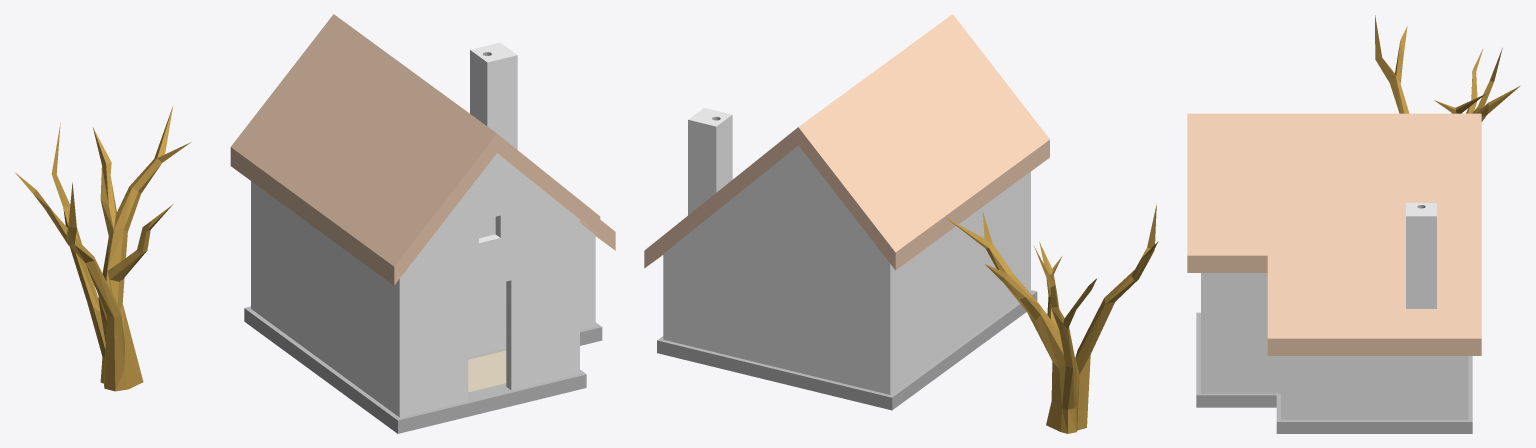
File: bim-house.glb
3 views of the same model, side by side, from view 1: azimuth 30°, elevation 25°; view 2: azimuth 150°, elevation 25°; view 3: azimuth 270°, elevation 25° (orthographic). The views are drawn at different scales.
Visible parts, largest first — view 1: Building-Architecture|IfcSlab, Building-Structural|IfcWall, Building-Architecture|IfcWall, Building-Landscaping|IfcGeographicElement, Building-Structural|IfcFooting, Building-Structural|IfcChimney, Building-Architecture|IfcBuildingElementProxy; view 2: Building-Architecture|IfcSlab, Building-Structural|IfcWall, Building-Architecture|IfcWall, Building-Landscaping|IfcGeographicElement, Building-Structural|IfcFooting, Building-Structural|IfcChimney; view 3: Building-Architecture|IfcSlab, Building-Architecture|IfcWall, Building-Structural|IfcFooting, Building-Structural|IfcChimney, Building-Landscaping|IfcGeographicElement.
Part boxes in pixels (left/top/right/bottom): Building-Architecture|IfcSlab: left=230, top=14, right=615, bottom=285; Building-Structural|IfcWall: left=408, top=153, right=586, bottom=415; Building-Architecture|IfcWall: left=251, top=181, right=595, bottom=417; Building-Landscaping|IfcGeographicElement: left=15, top=105, right=190, bottom=391; Building-Structural|IfcFooting: left=244, top=306, right=602, bottom=433; Building-Structural|IfcChimney: left=470, top=42, right=517, bottom=149; Building-Architecture|IfcBuildingElementProxy: left=468, top=350, right=506, bottom=392; Building-Architecture|IfcSlab: left=644, top=14, right=1049, bottom=270; Building-Structural|IfcWall: left=671, top=145, right=882, bottom=392; Building-Architecture|IfcWall: left=663, top=172, right=1030, bottom=394; Building-Landscaping|IfcGeographicElement: left=945, top=203, right=1158, bottom=433; Building-Structural|IfcFooting: left=657, top=290, right=1037, bottom=410; Building-Structural|IfcChimney: left=688, top=108, right=732, bottom=215; Building-Architecture|IfcSlab: left=1187, top=113, right=1481, bottom=355; Building-Architecture|IfcWall: left=1201, top=273, right=1468, bottom=419; Building-Structural|IfcFooting: left=1196, top=312, right=1472, bottom=433; Building-Structural|IfcChimney: left=1406, top=203, right=1436, bottom=308; Building-Landscaping|IfcGeographicElement: left=1375, top=15, right=1519, bottom=121.
Size of the model in its own units: 11.73 by 6.3 by 7.49.
